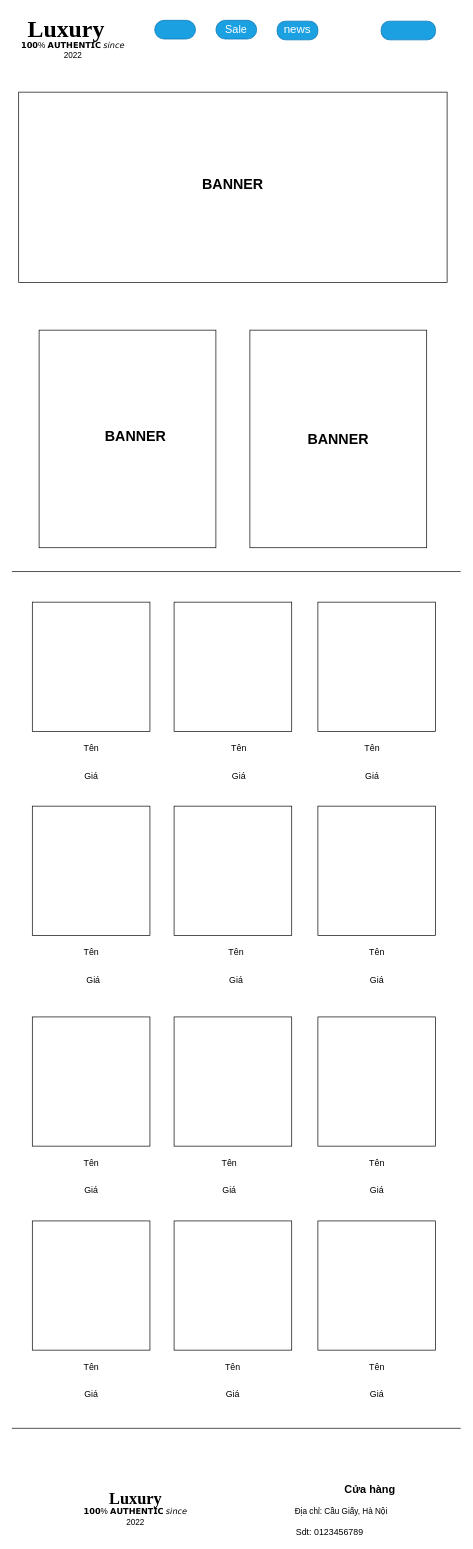
Some shapes in this 473 by 1549 pixel diagram are drawn without their labels. Here are the shapes that lost their labels. From the top down, the centre of each, then its label:
At [175,29]: "Shop".
At [408,30]: "Liên hệ".
